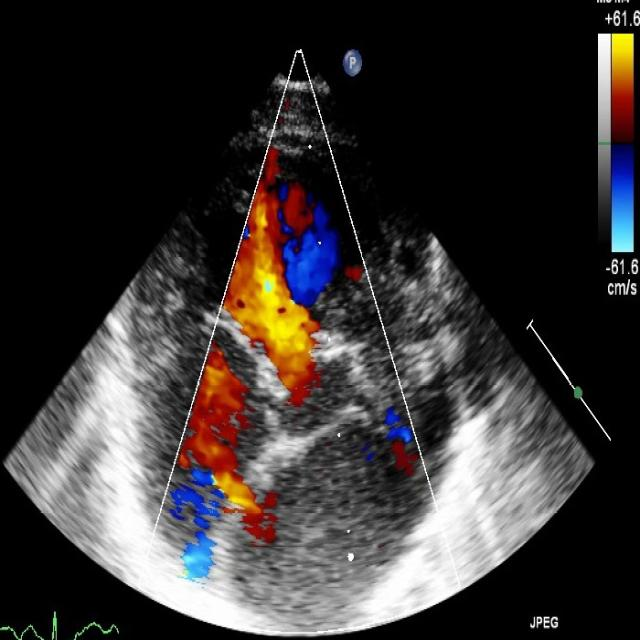VSDType2: (223, 180, 321, 408)
